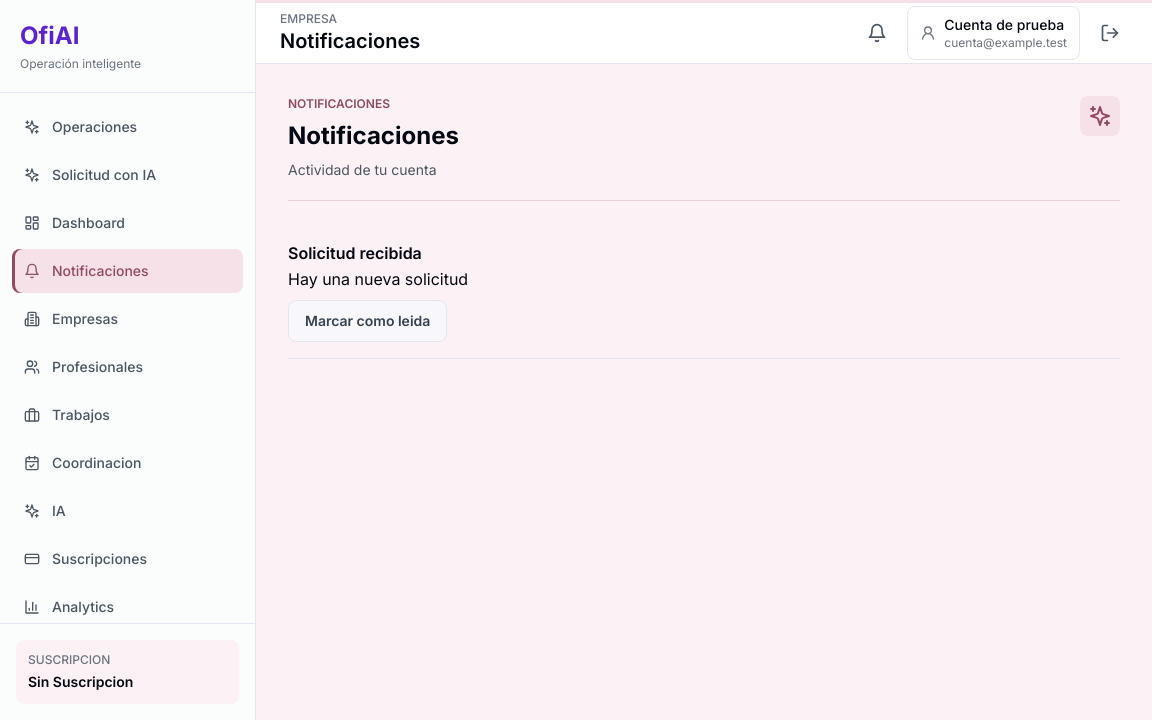
Test: Pantallas conectadas a la API › persiste la lectura de notificaciones
What coordinates should you click on to do the following:
click the button "Marcar como leida"
I would click on:
 (368, 321)
Its box is [288, 300, 447, 342].
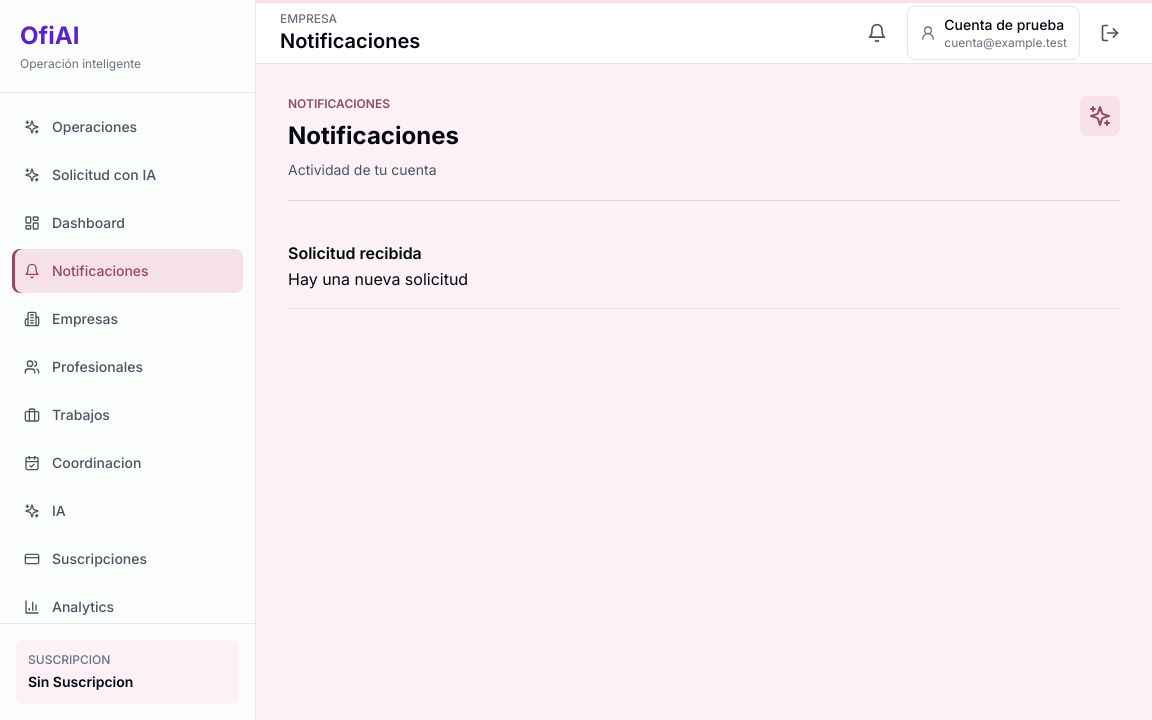
Now the button "Marcar como leida" is gone
